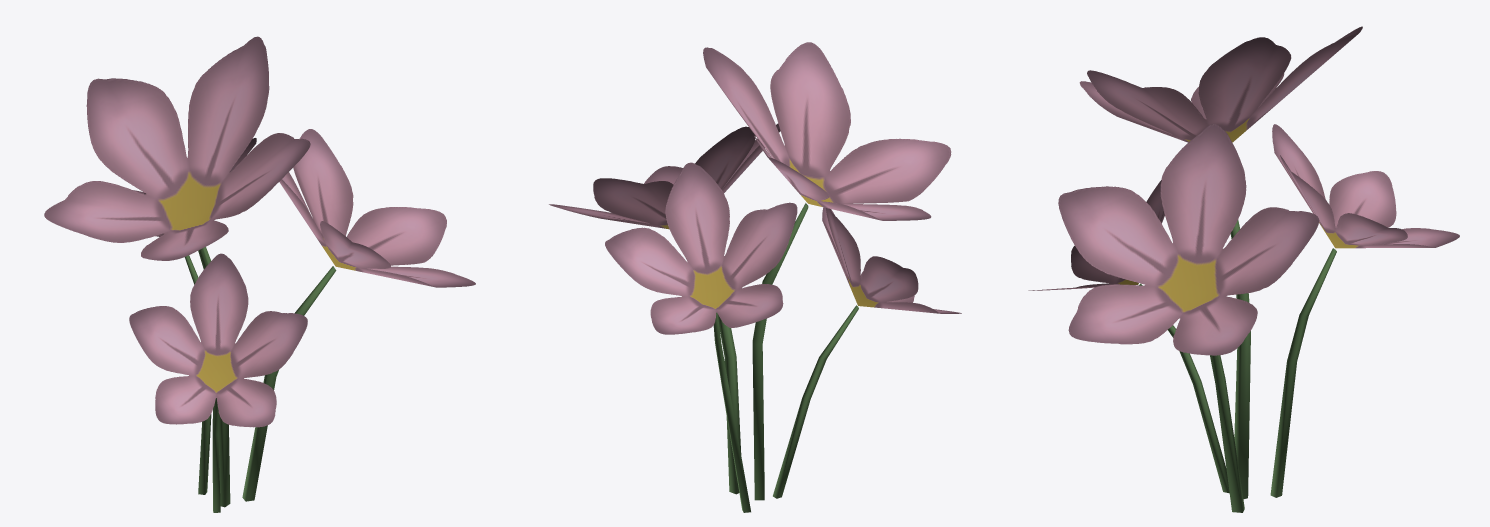
Rendered from Flower_4_Clump.gltf.
The picture shows the model from 3 angles, left to right: view 1: azimuth 30°, elevation 25°; view 2: azimuth 150°, elevation 25°; view 3: azimuth 270°, elevation 25°; orthographic projection. The views are drawn at different scales.
Parts seen in each view (by area): view 1: Flower_4_Clump; view 2: Flower_4_Clump; view 3: Flower_4_Clump.
Part boxes in pixels (x1=…): Flower_4_Clump: x1=44, y1=36, x2=475, y2=512; Flower_4_Clump: x1=549, y1=42, x2=961, y2=512; Flower_4_Clump: x1=1028, y1=26, x2=1459, y2=512.
Size of the model in its own units: 0.568 by 0.6011 by 0.4979.
Materials: 1 (1 with a texture image).
